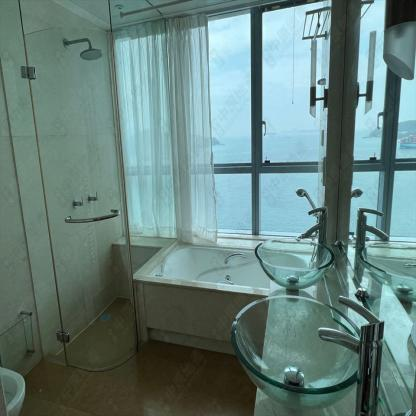Bathtub: (137, 241, 271, 357)
Faucet: (318, 315, 384, 415), (301, 204, 332, 245)
Toilet Sink: (228, 295, 357, 409), (255, 238, 333, 290)
Water Cubicle: (14, 0, 179, 372)
